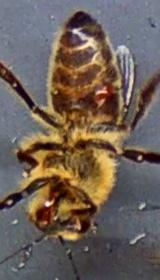varroa_mite: (85, 75, 116, 114)
